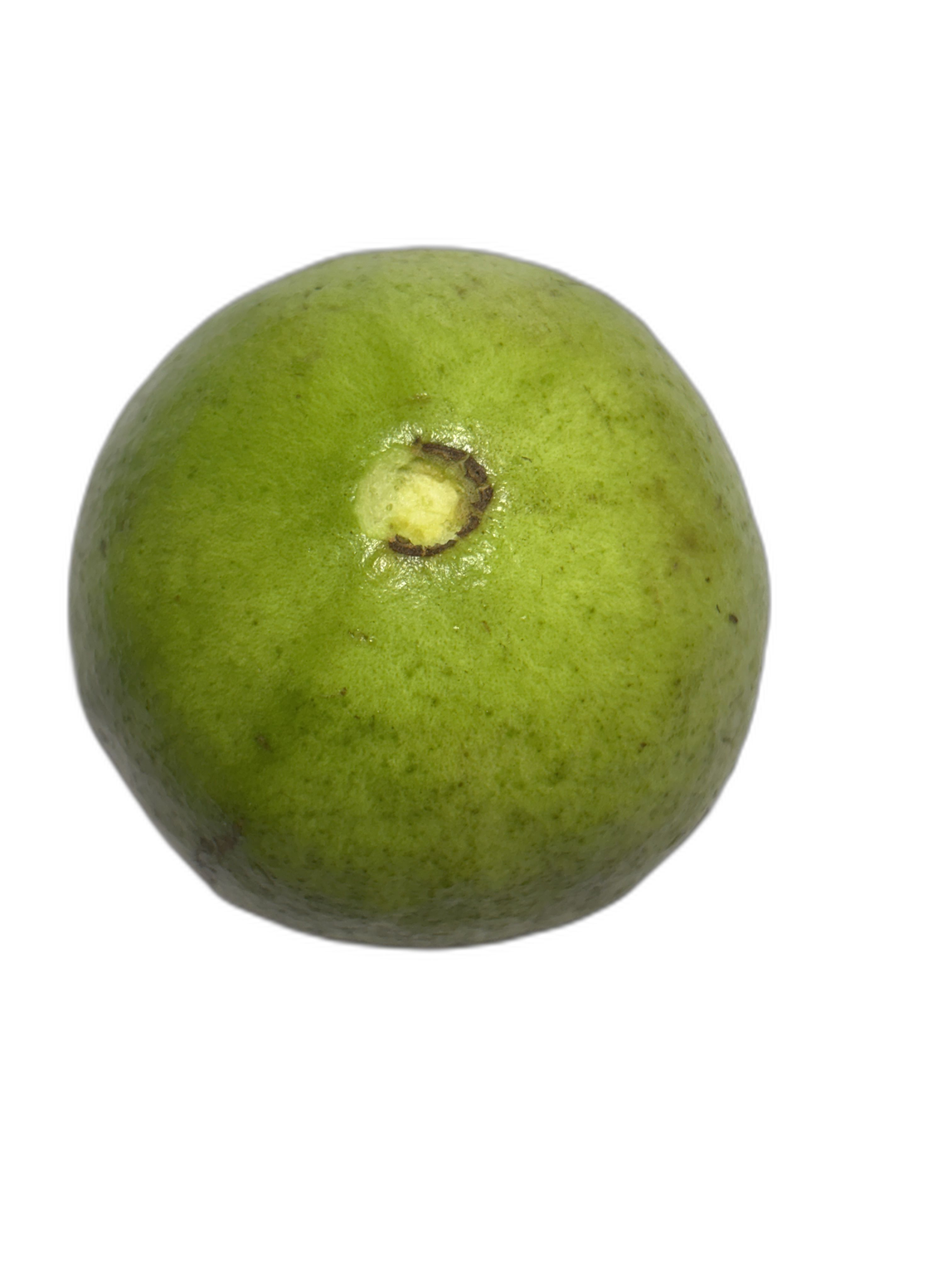guava: (7, 139, 853, 949)
